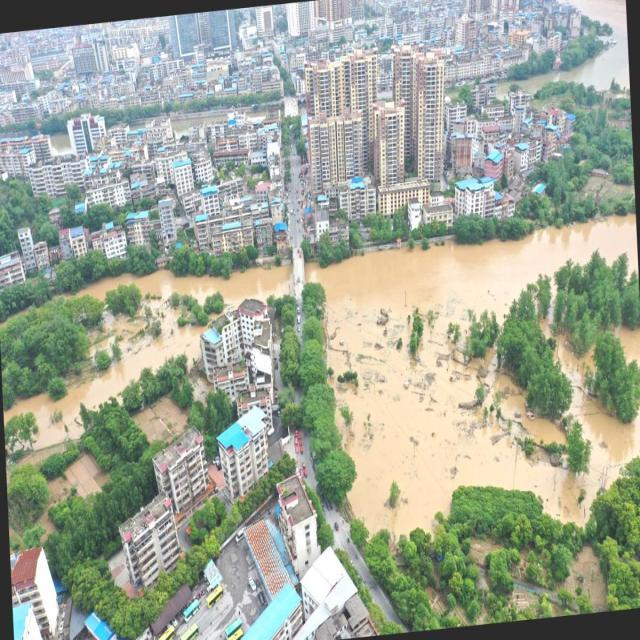flood: (311, 204, 640, 537), (29, 249, 293, 389)
